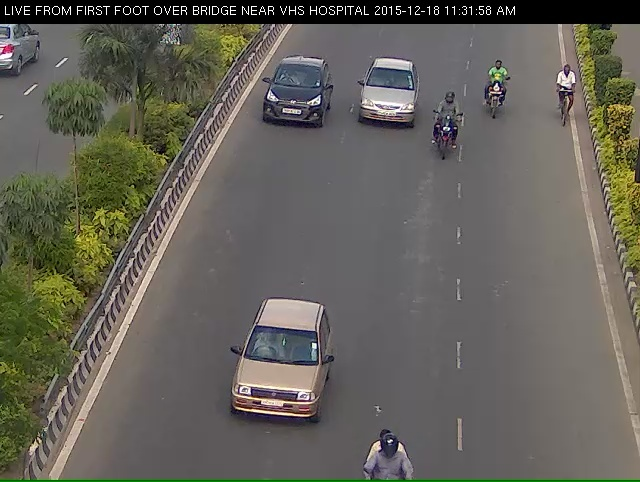Car: (215, 333, 325, 472), (251, 68, 330, 142), (357, 56, 417, 151)
Person: (425, 104, 465, 190), (478, 66, 519, 132)
